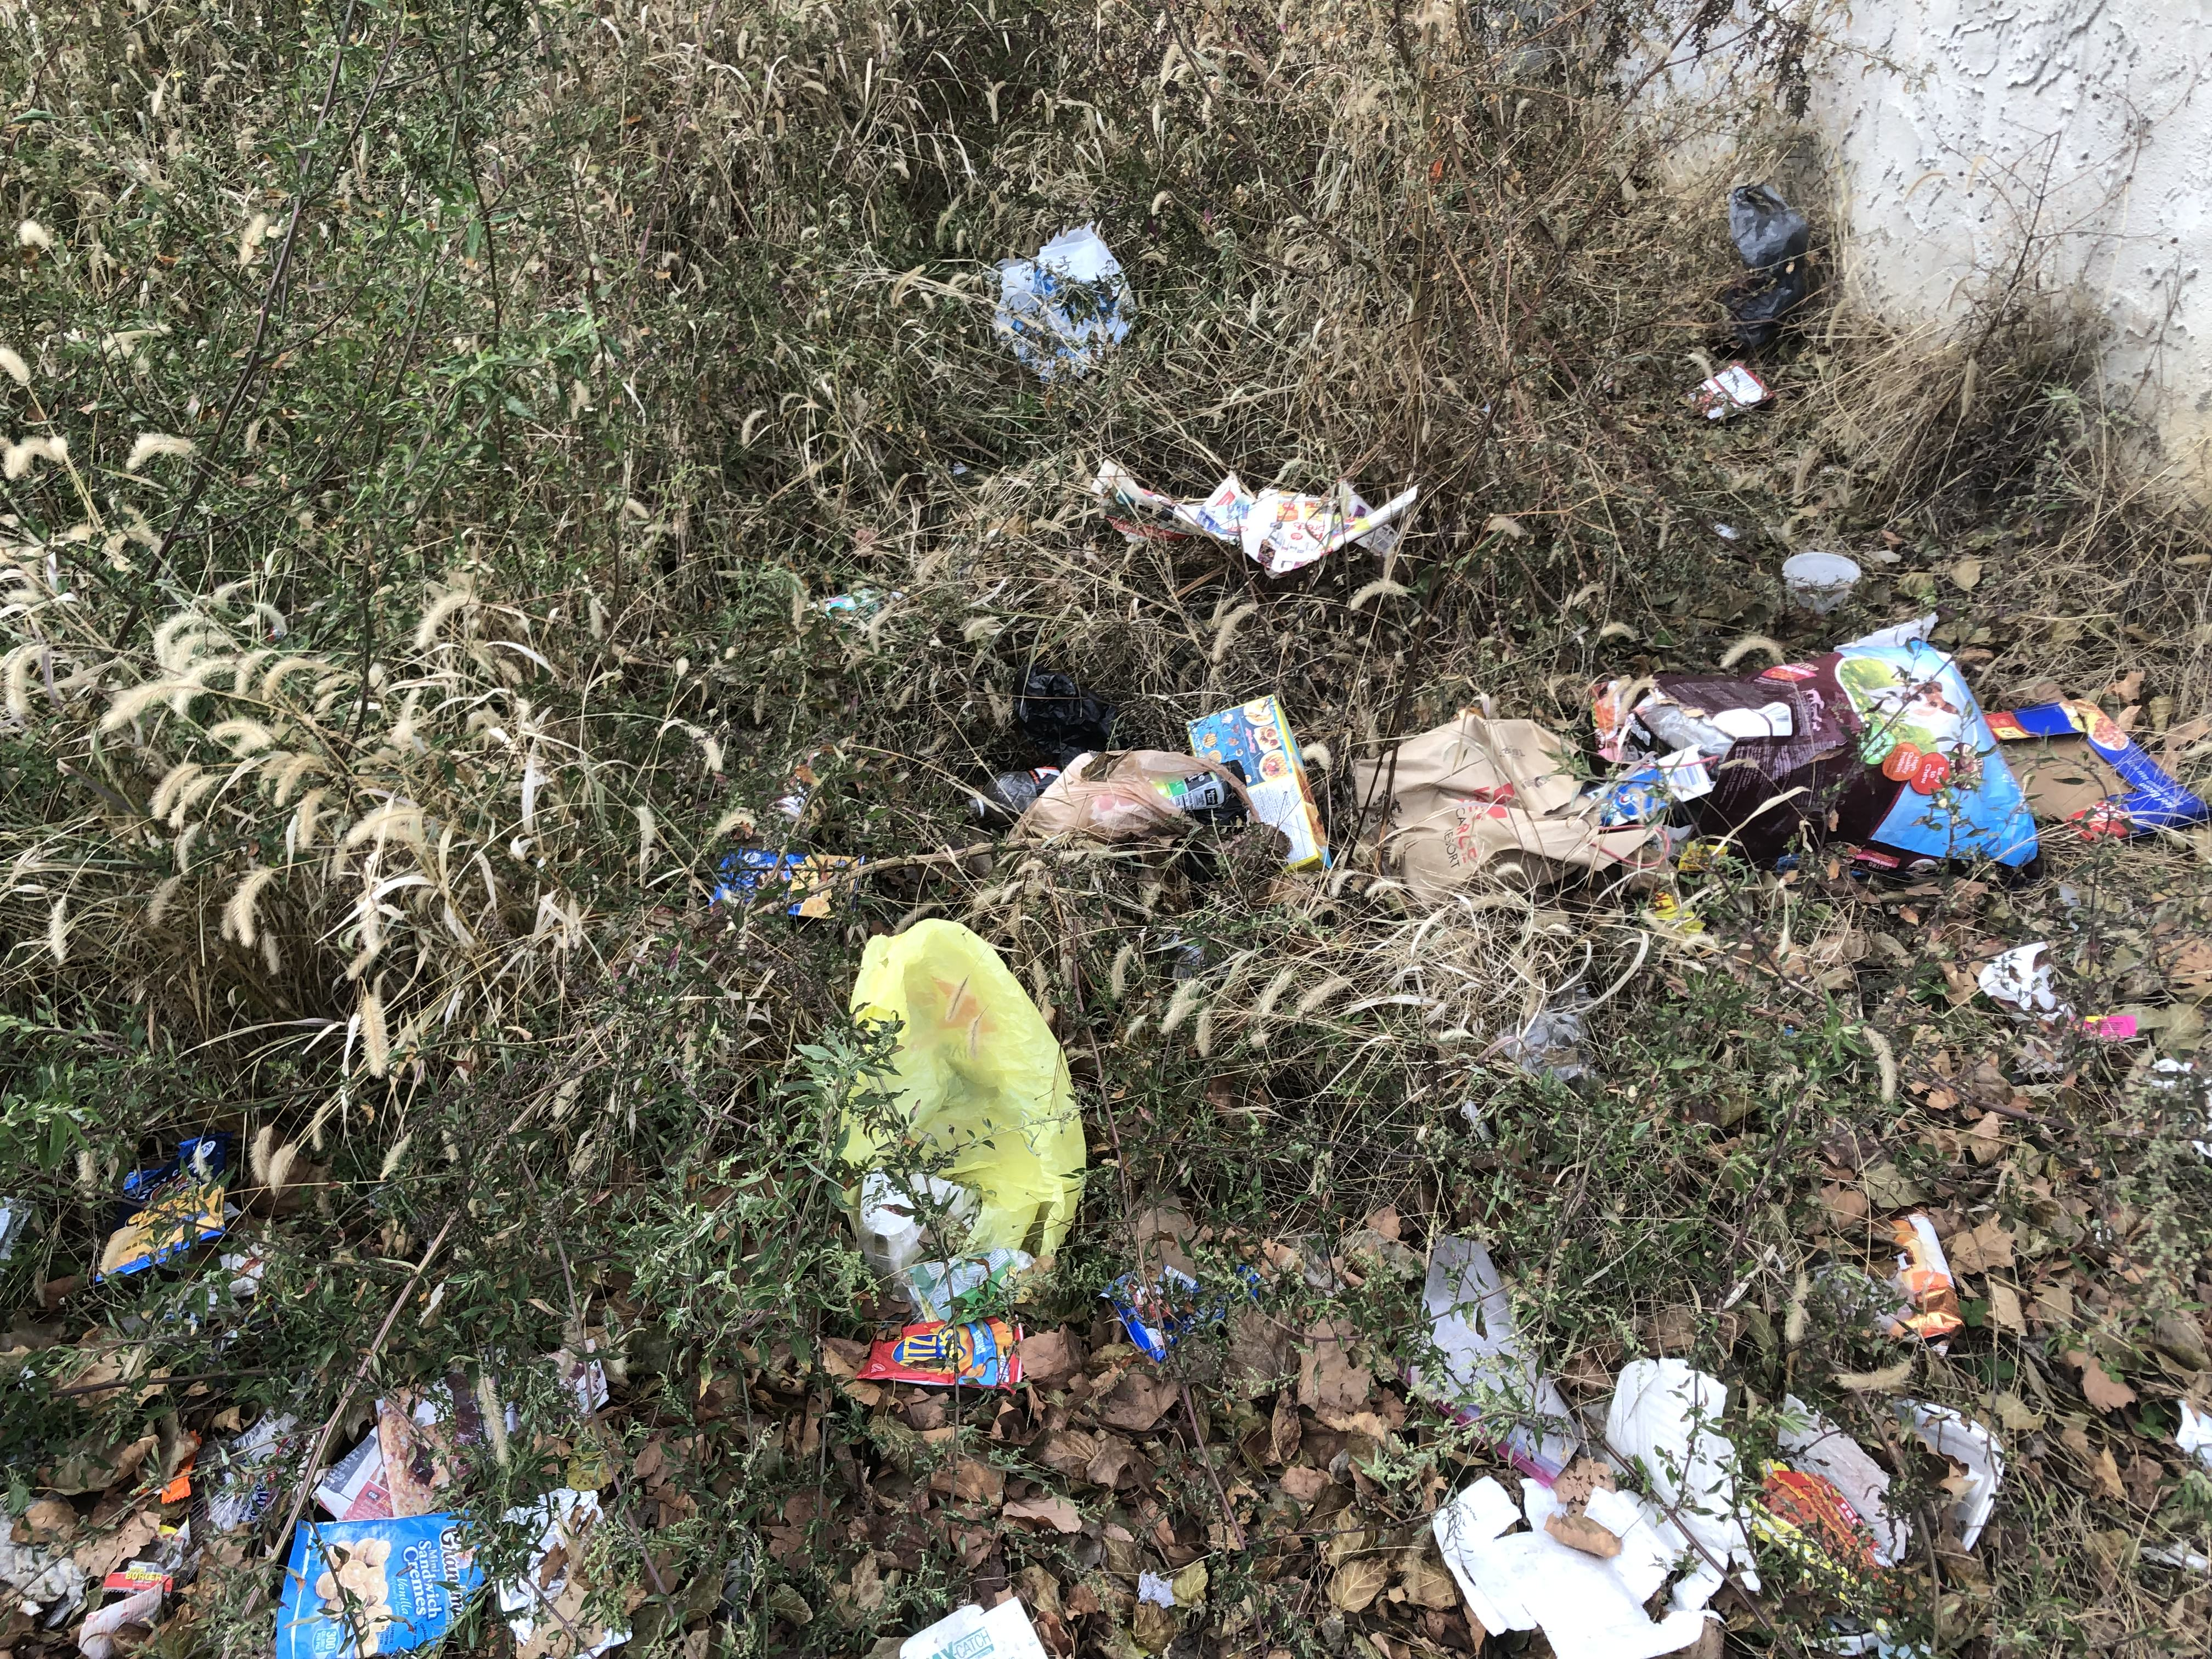rough_lawn: (132, 131, 1998, 1549)
trash: (672, 852, 1221, 1462), (1374, 1236, 2064, 1654), (1512, 518, 2055, 911), (253, 1304, 571, 1621), (949, 739, 1371, 953), (21, 1079, 303, 1392), (1085, 406, 1472, 596), (911, 192, 1256, 397)
